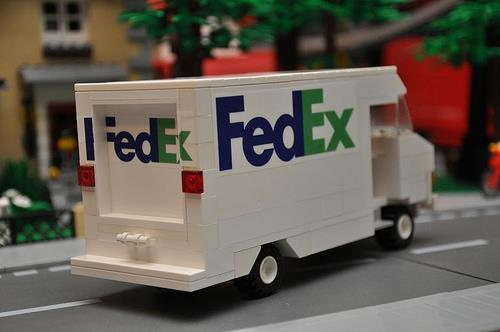FedEX: (80, 105, 196, 166)
